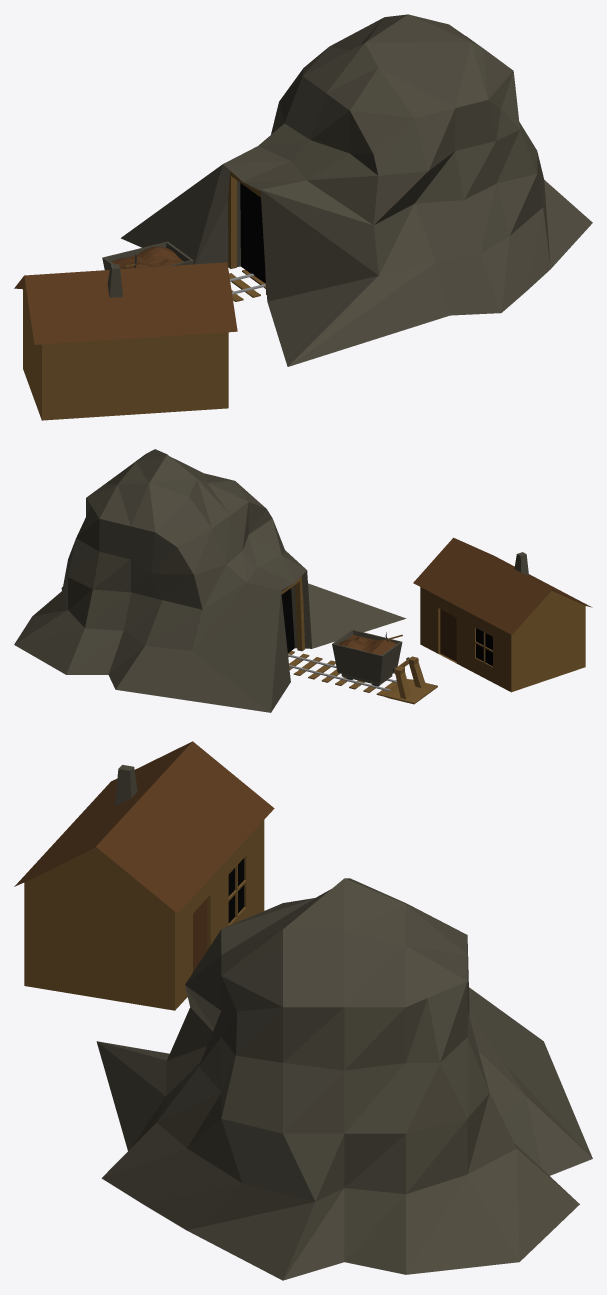
The model's file is IronMine_3_0.fbx.
3 views of the same model, one above another, from view 1: azimuth 30°, elevation 25°; view 2: azimuth 150°, elevation 25°; view 3: azimuth 270°, elevation 25° (orthographic). The views are drawn at different scales.
Parts seen in each view (by area): view 1: Mountain, Housing, Holstützen, Ironore, Minecart; view 2: Mountain, Housing, Minecart, Cube, Ironore, Holstützen, Schiene.L; view 3: Mountain, Housing.
Boxes of the visible parts, <box> form: Mountain: <box>121,14,592,366</box>; Housing: <box>14,262,237,420</box>; Holstützen: <box>228,171,266,294</box>; Ironore: <box>111,246,183,268</box>; Minecart: <box>102,241,193,270</box>; Mountain: <box>14,449,405,712</box>; Housing: <box>413,537,592,692</box>; Minecart: <box>332,629,402,685</box>; Cube: <box>383,656,437,704</box>; Ironore: <box>338,635,396,655</box>; Holstützen: <box>281,576,304,651</box>; Schiene.L: <box>288,654,397,691</box>; Mountain: <box>96,878,592,1280</box>; Housing: <box>14,741,274,1010</box>.
Size of the model in its own units: 763 by 270 by 470.
